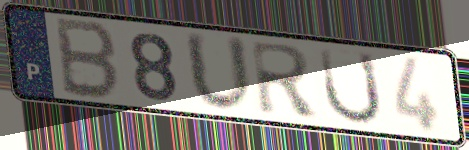4: (391, 53, 447, 136)
8: (127, 30, 181, 103)
B: (54, 14, 122, 103)
R: (248, 39, 324, 121)
U: (181, 28, 257, 116), (316, 45, 385, 127)
